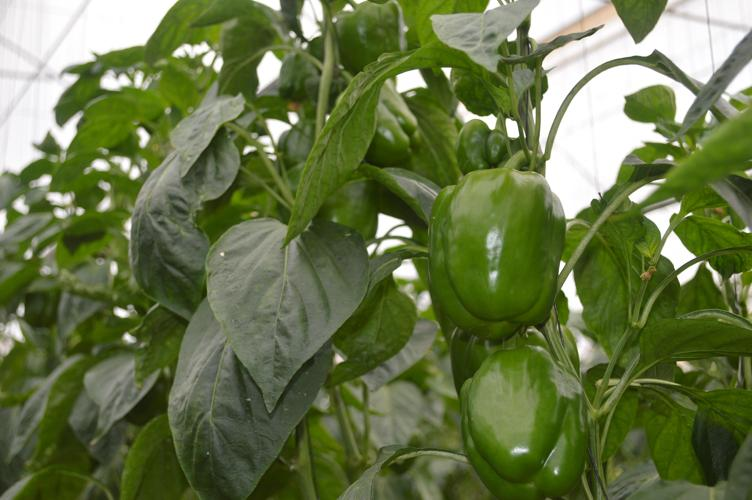BellPepper: (426, 172, 567, 329), (456, 348, 591, 491), (445, 321, 545, 373), (301, 178, 382, 239), (331, 2, 398, 69), (359, 96, 415, 166), (456, 119, 501, 169)
